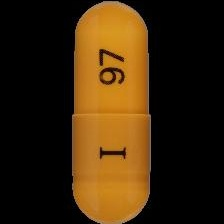65862-583: (0, 0, 224, 224)
